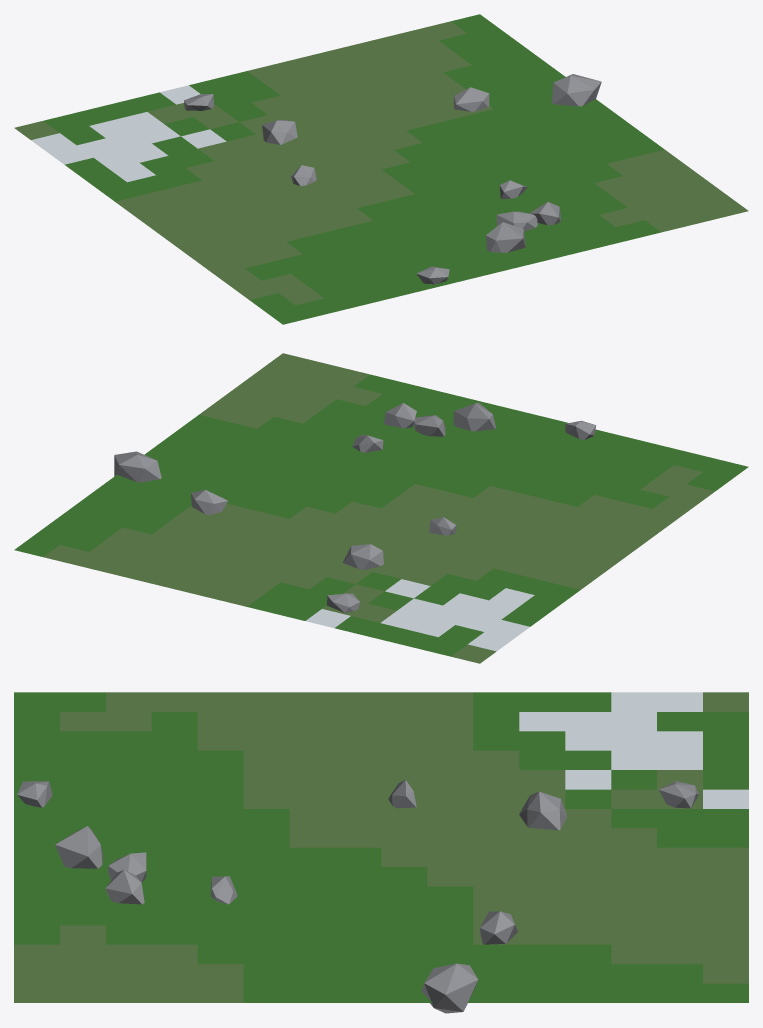
Rendered from chunk_5_2.glb.
3 renders of one model, top to bottom at view 1: azimuth 30°, elevation 25°; view 2: azimuth 150°, elevation 25°; view 3: azimuth 270°, elevation 25°, orthographic. The views are drawn at different scales.
Parts seen in each view (by area): view 1: chunk_5_2; view 2: chunk_5_2; view 3: chunk_5_2.
Boxes of the visible parts, x1,y1,x2,y2 form: chunk_5_2: (14, 14, 748, 324); chunk_5_2: (14, 353, 748, 663); chunk_5_2: (14, 692, 748, 1013).
Size of the model in its own units: 16.37 by 1.2 by 16.
